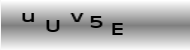5: (89, 14, 103, 28)
E: (110, 22, 124, 36)
U: (44, 20, 60, 33)
u: (20, 11, 36, 23)
v: (70, 11, 83, 23)
